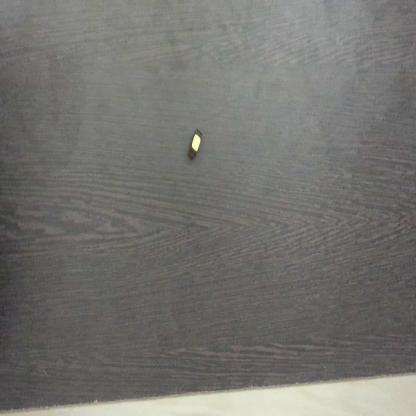NUTS: (187, 127, 206, 166)
